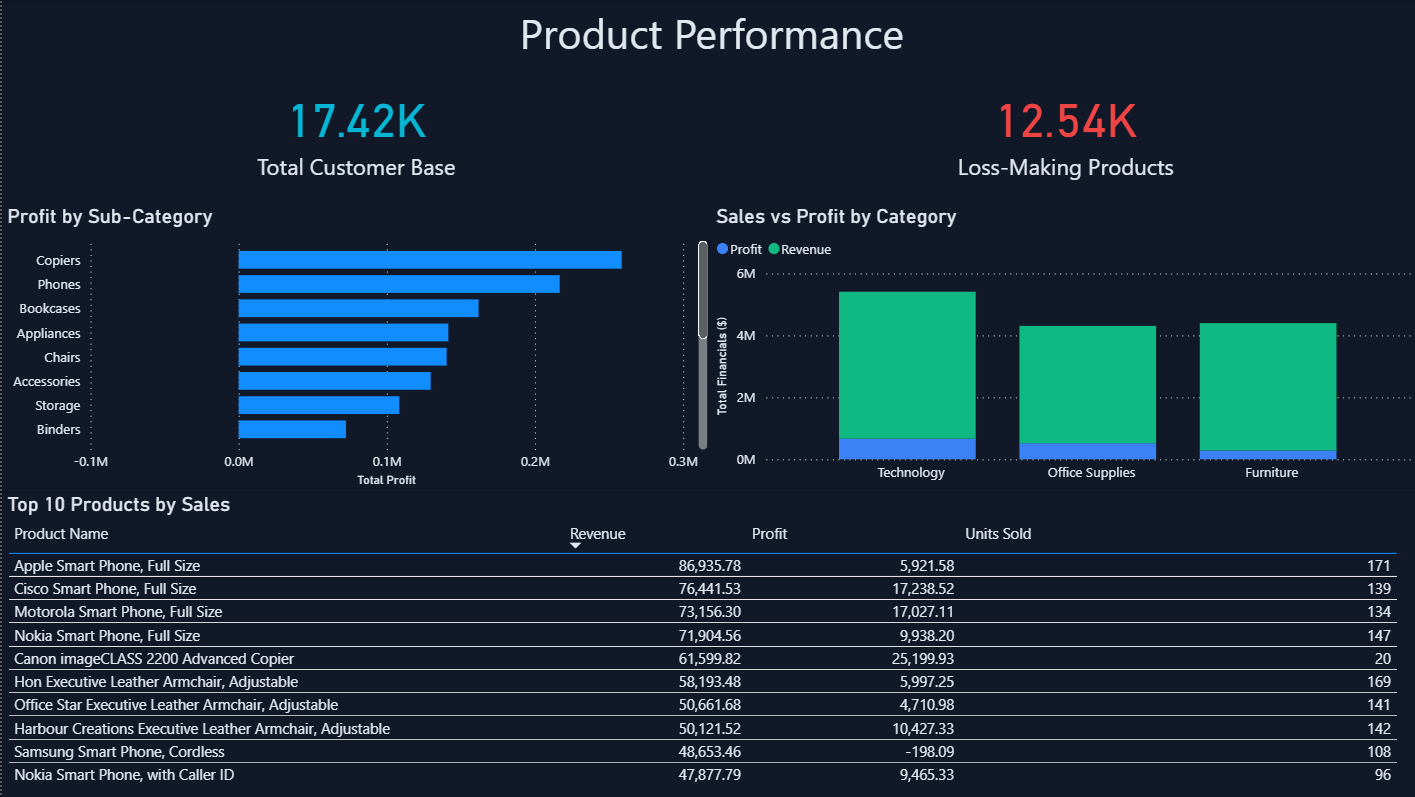

This screenshot's page, from the dashboard's own definition file:
{"tool":"powerbi","page":{"name":"Page 2","canvas":[1280,720],"ordinal":1},"visuals":[{"type":"textbox","box":[0,0,1280.4,62],"z":0},{"type":"clusteredBarChart","title":"Profit by Sub-Category","fields":{"Category":["Orders.Sub-Category"],"Y":["Sum(Orders.Profit)"]},"box":[0,184.8,641.3,260.4],"z":3},{"type":"columnChart","title":"Sales vs Profit by Category","fields":{"Category":["Orders.Category"],"Y":["Sum(Orders.Profit)","Sum(Orders.Sales)"]},"box":[639.1,184.8,641.3,260.4],"z":4},{"type":"tableEx","title":"Top 10 Products by Sales","fields":{"Values":["Orders.Product Name","Sum(Orders.Sales)","Sum(Orders.Profit)","Sum(Orders.Quantity)"]},"box":[0,445.2,1280.4,275],"z":5},{"type":"card","fields":{"Values":["CountNonNull(Orders.Product ID)"]},"box":[639.5,52.1,640.8,133.1],"z":7},{"type":"card","fields":{"Values":["Count(Orders.Customer ID)"]},"box":[0,52.1,639.5,133.1],"z":8}]}

Visuals, with their boxes in screenshot pixels (x1, y1, x2, y2), scaled from the page's 1280x720 canvas onto the 1415x797 screenshot:
textbox: 0 0 1414 69
"Profit by Sub-Category" clusteredBarChart: 0 205 709 493
"Sales vs Profit by Category" columnChart: 707 205 1414 493
"Top 10 Products by Sales" tableEx: 0 493 1414 796
card - CountNonNull(Orders.Product ID): 707 58 1414 205
card - Count(Orders.Customer ID): 0 58 707 205
